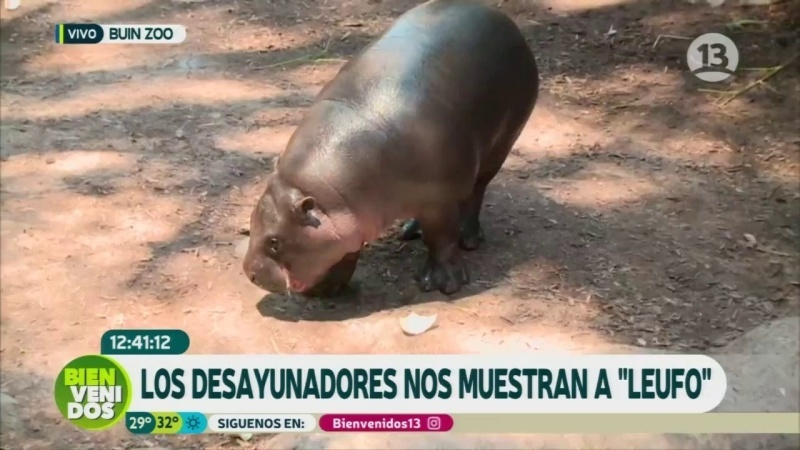hipopotamo: (215, 2, 537, 325)
